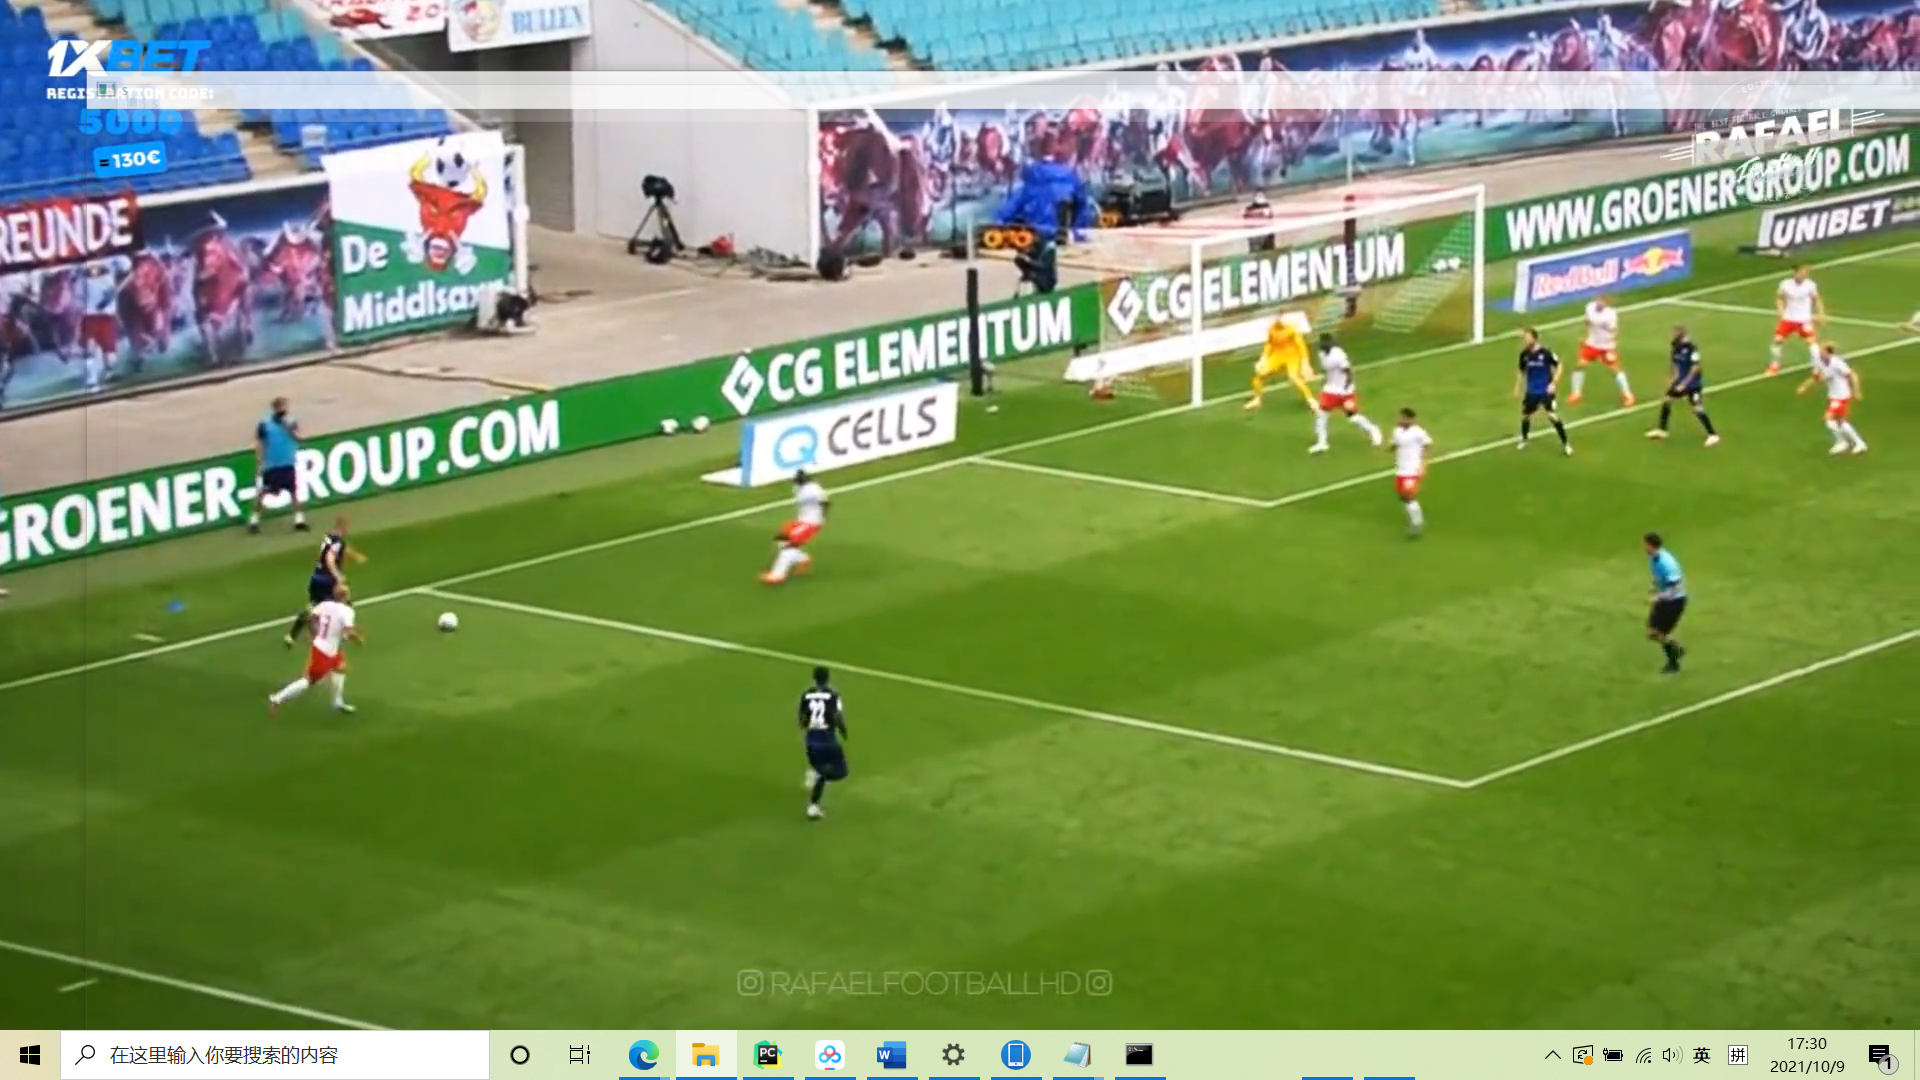ft: (436, 611, 460, 633), (690, 414, 711, 435), (658, 418, 679, 436)
